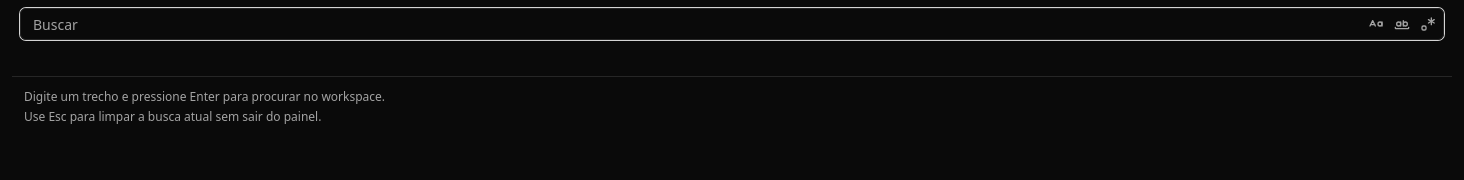
Scenario: <CodeSearchPanel /> › mostra contador de resultados por arquivo
This screenshot has width=1464, height=180.
Type "hello" into the field with placeholder "Buscar". click: (732, 24)
box: [20,8,1444,40]
Then press Enter
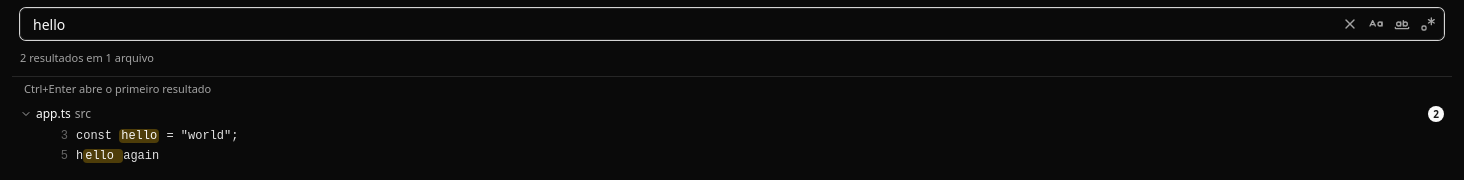
Check: the text "2" is shown, box [1428,106,1444,122]
